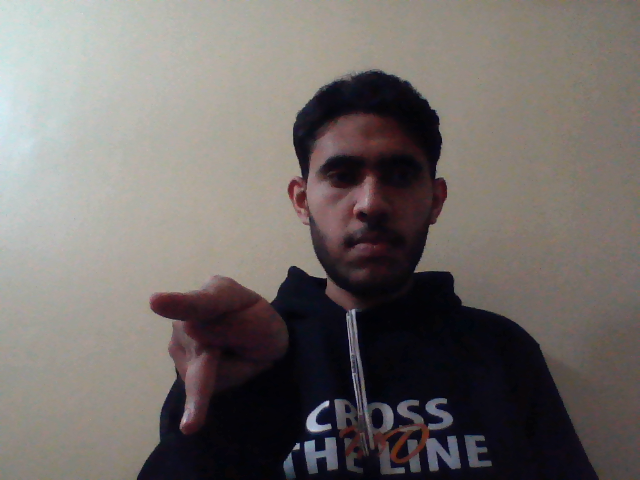P: (148, 267, 297, 444)
